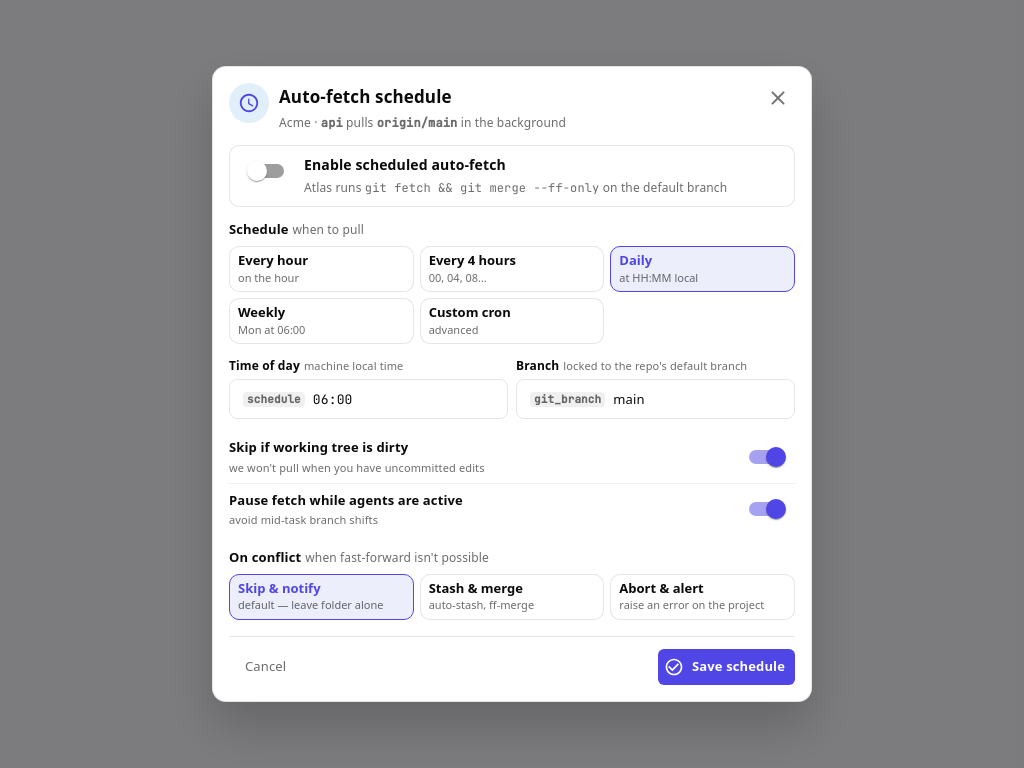
Test: AutoFetchScheduleModal — form interactions › changing the weekday select updates state when Weekly is selected
The width and height of the screenshot is (1024, 768).
Click the text "Weekly". click: coordinates (262, 312)
box: [238,303,285,321]
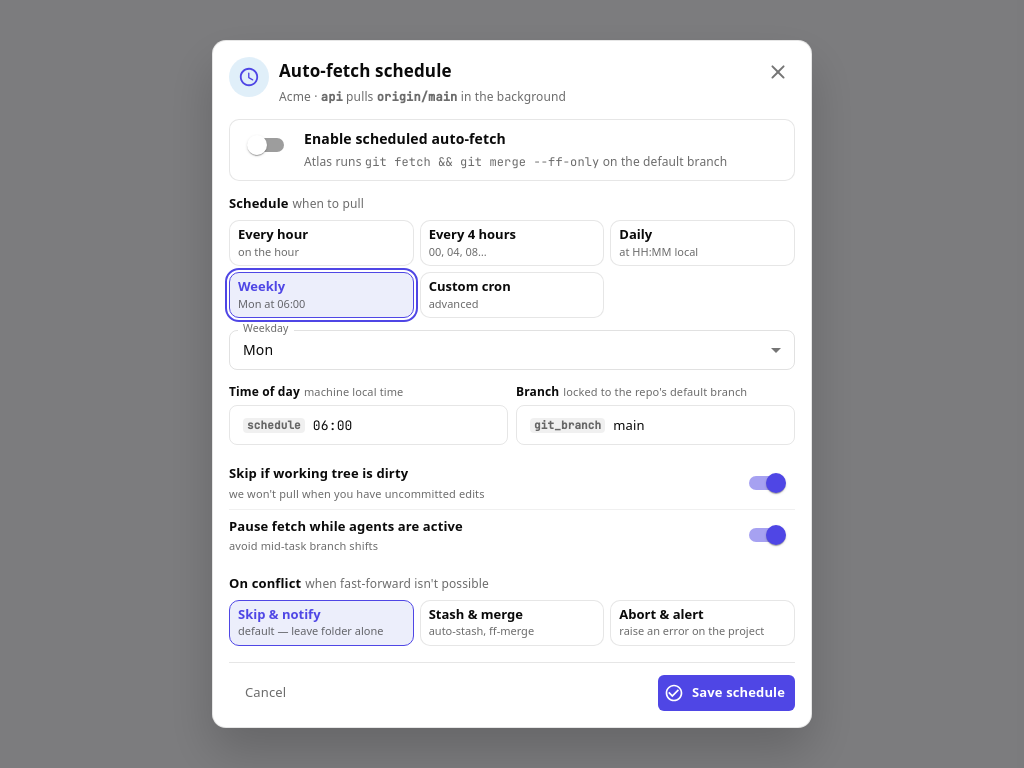
Click the dropdown named "Weekday". click: coordinates (258, 349)
box: [243,340,273,359]
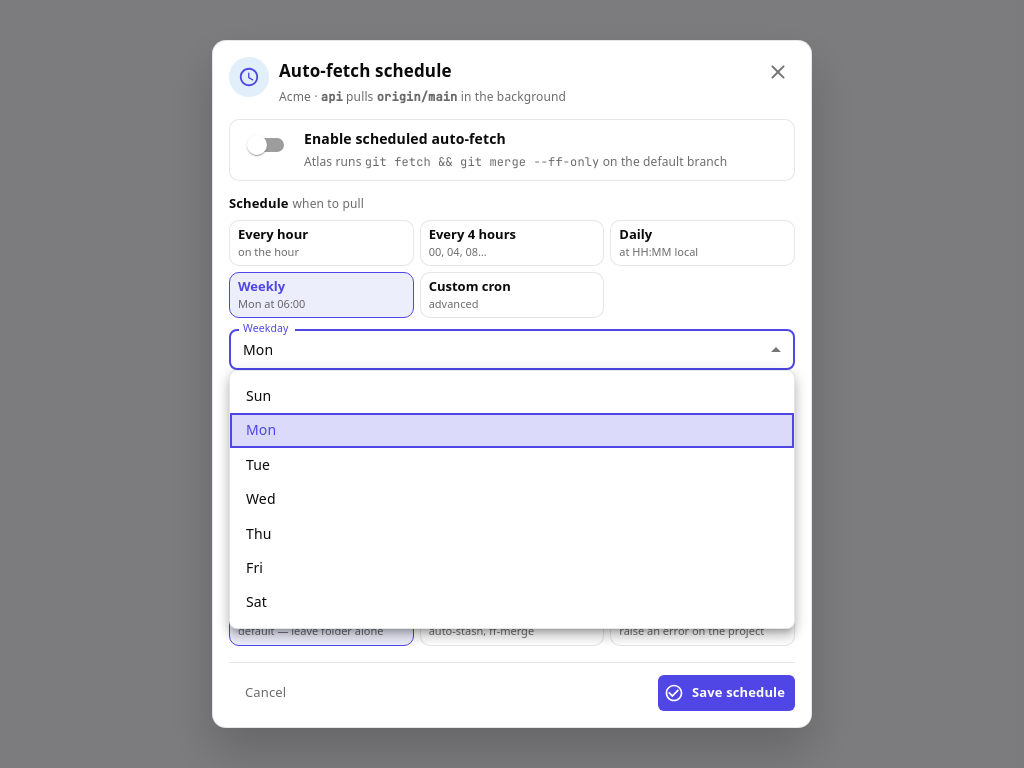
Click the option "Fri". click: coordinates (255, 568)
box: [246,558,263,577]
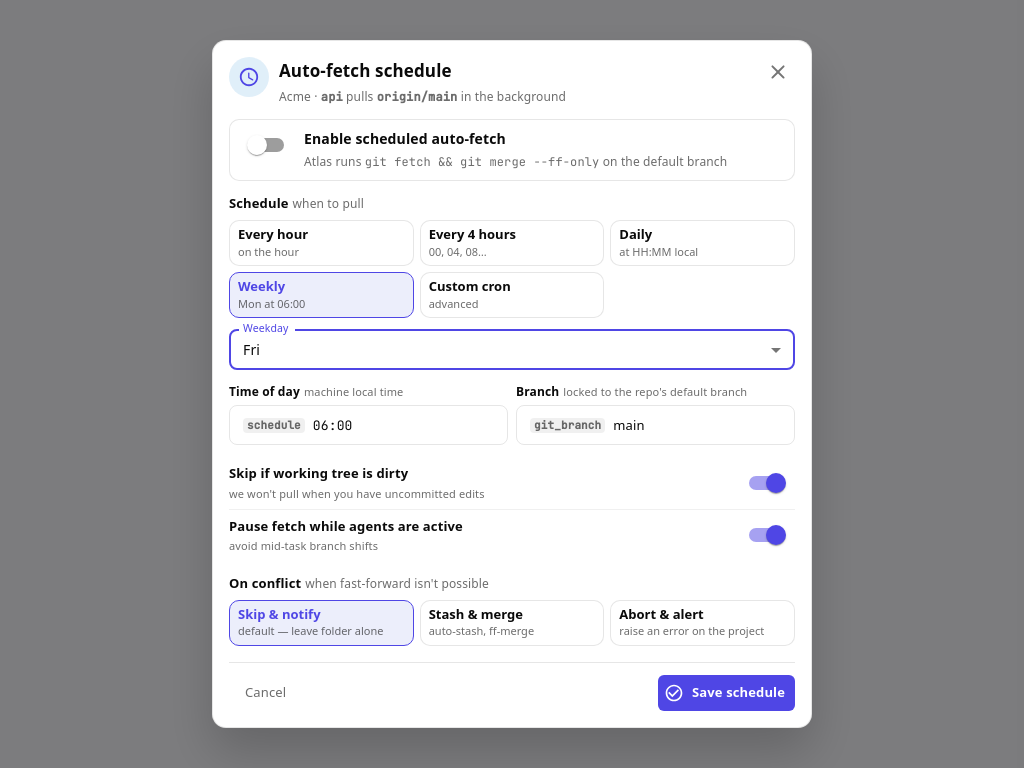
Now the dropdown named "Weekday" reads "Fri", box [243,340,260,359]
